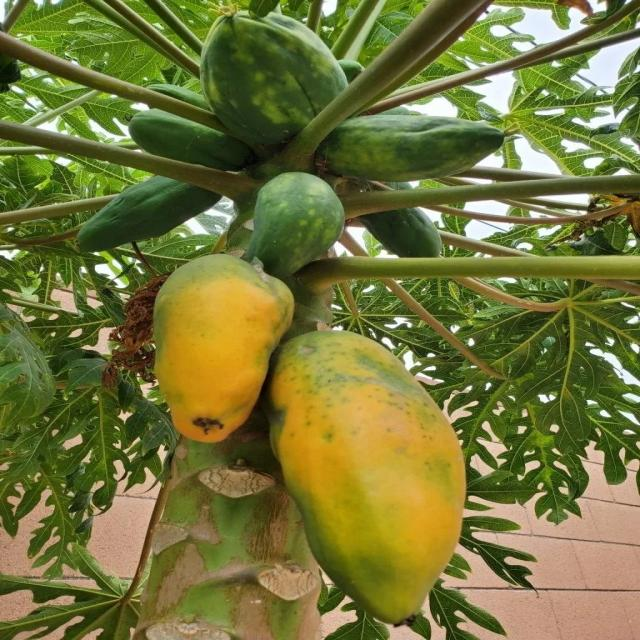Pepaya rippen: (272, 330, 478, 622), (152, 253, 301, 447)
Pepaya unrippen: (196, 6, 345, 143), (336, 107, 512, 181)
